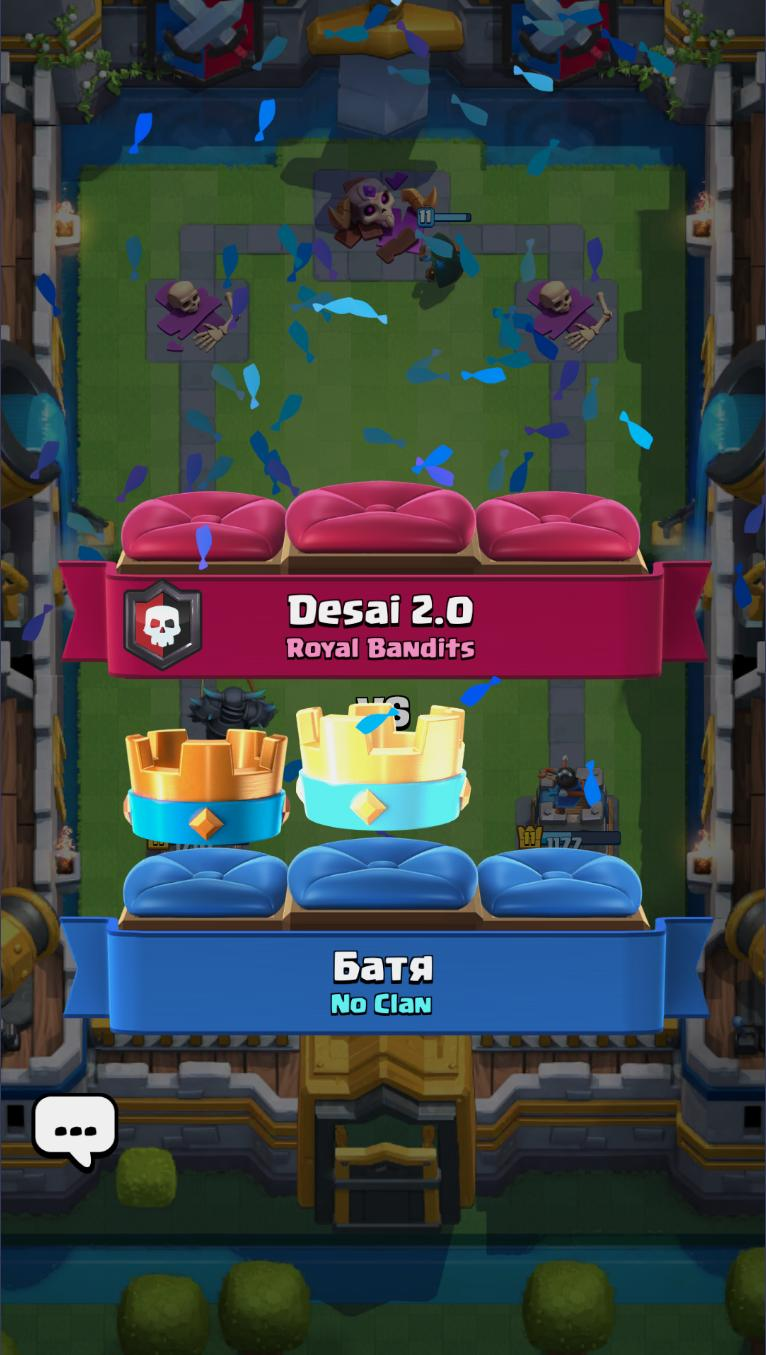EnemyTowerBrocken: (138, 269, 254, 364), (509, 269, 624, 364)
KingTowerBrocken: (310, 158, 451, 284)
MyBandit: (414, 208, 473, 289)
MyPekka: (186, 676, 277, 738)
MyPrincessTower: (517, 765, 625, 850)
MyPrincessTowerHP: (518, 824, 627, 859)
